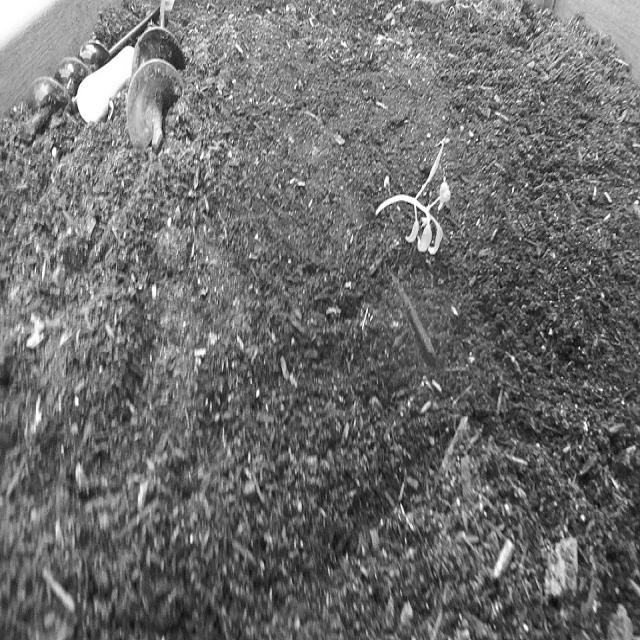Healthy: (372, 135, 454, 261)
